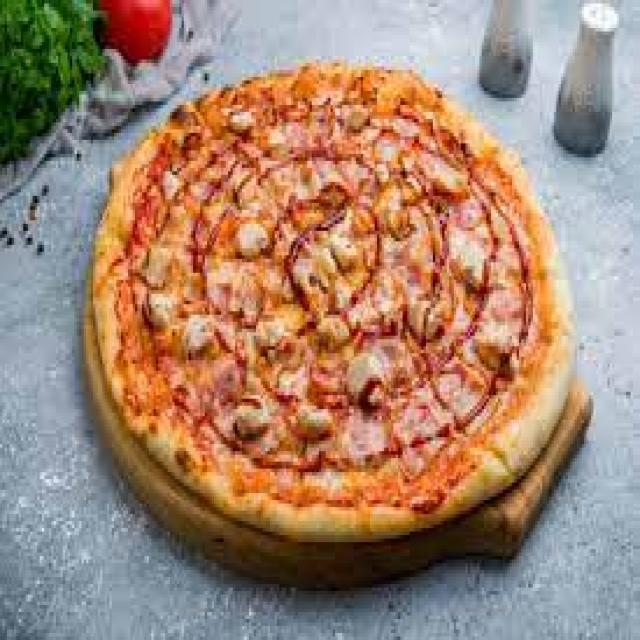피자: (79, 59, 591, 595)
